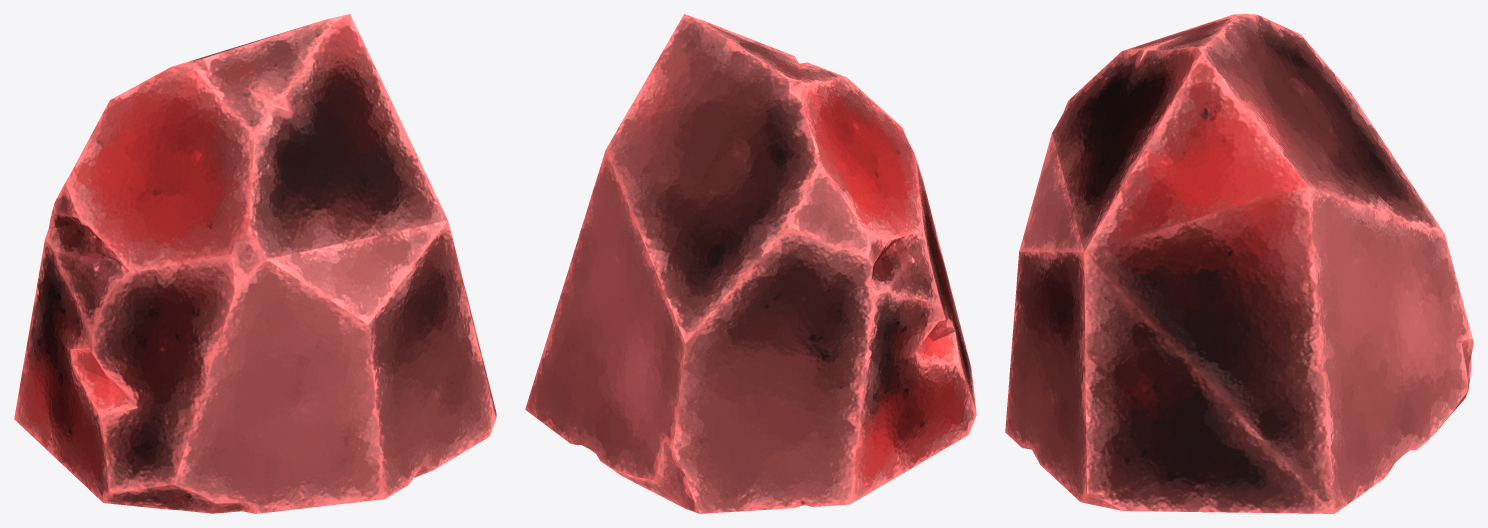
The model's file is red_gem.glb.
The picture shows the model from 3 angles, left to right: view 1: azimuth 30°, elevation 25°; view 2: azimuth 150°, elevation 25°; view 3: azimuth 270°, elevation 25°; orthographic projection. The views are drawn at different scales.
Parts seen in each view (by area): view 1: Rock; view 2: Rock; view 3: Rock.
Boxes of the visible parts, x1,y1,x2,y2 form: Rock: [14, 14, 496, 513]; Rock: [525, 14, 976, 513]; Rock: [1005, 14, 1473, 513].
Bounding box in the file's own units: 88.66 × 89.49 × 92.51.
1 material, 1 textured.
